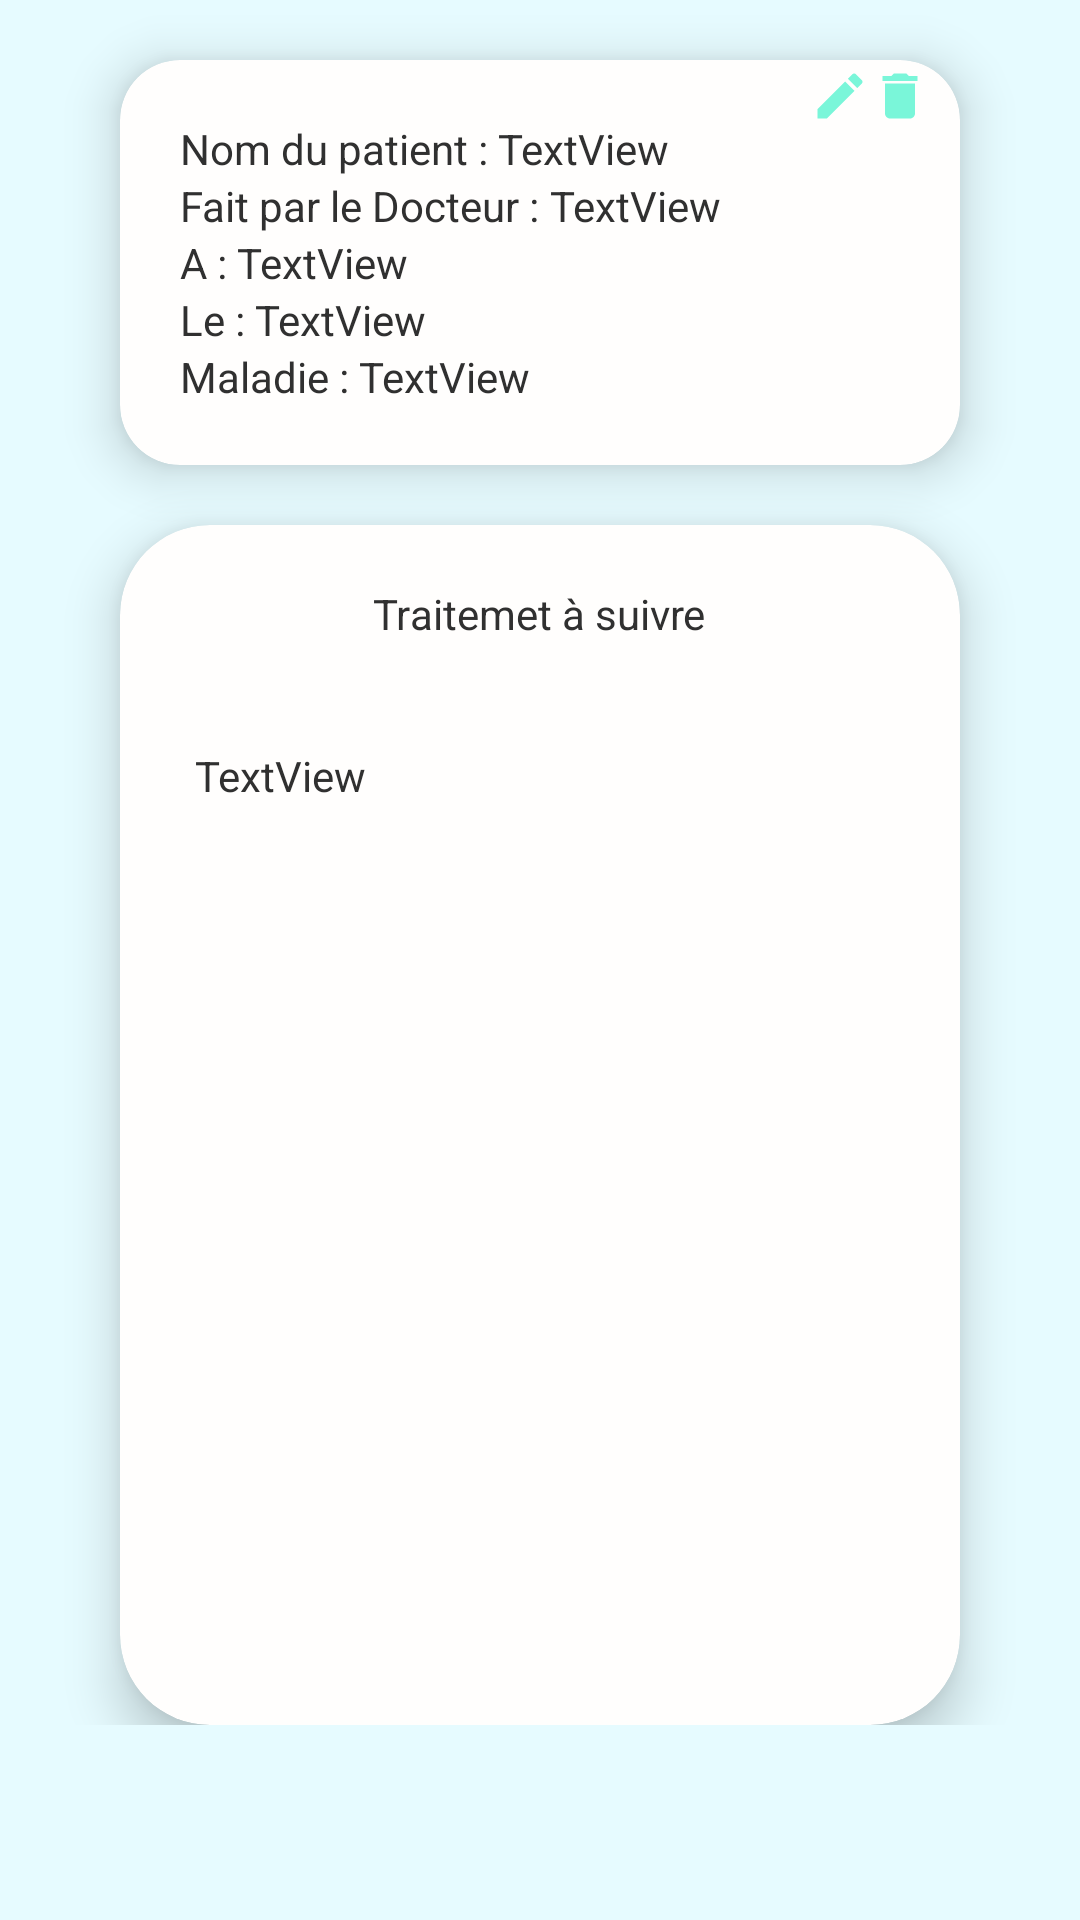

Named icons in this screenshot (1080px×1920px) and their centers, point (x, y):
delete: point (900, 96)
edit: point (840, 96)
